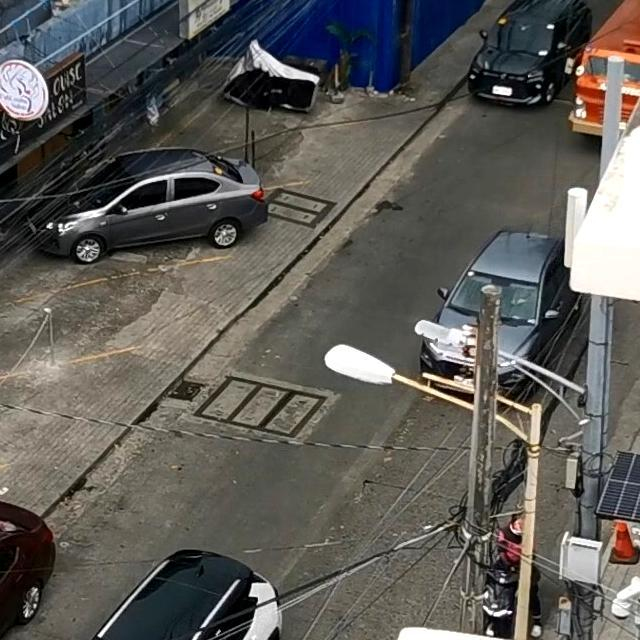Truck: (564, 0, 640, 137)
